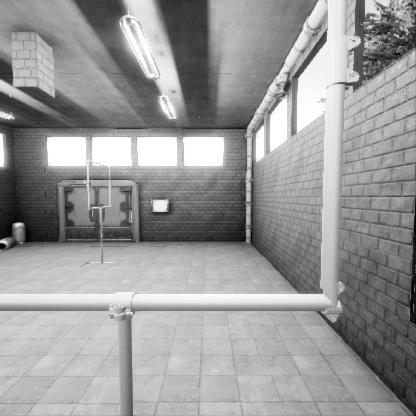gate: (86, 208, 111, 258)
